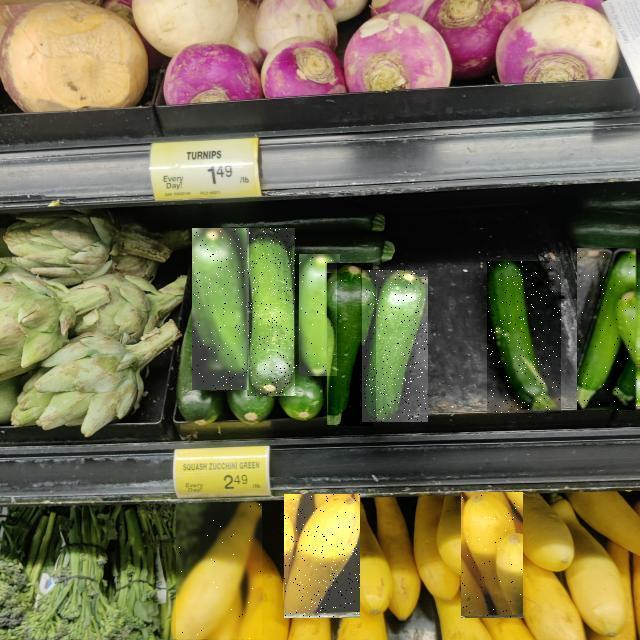Zuccini: (177, 503, 263, 639), (487, 261, 561, 413), (578, 248, 640, 410), (364, 270, 428, 422), (192, 229, 252, 391), (284, 494, 360, 618), (248, 228, 298, 396), (328, 263, 376, 426), (461, 493, 523, 619), (299, 254, 340, 376)
